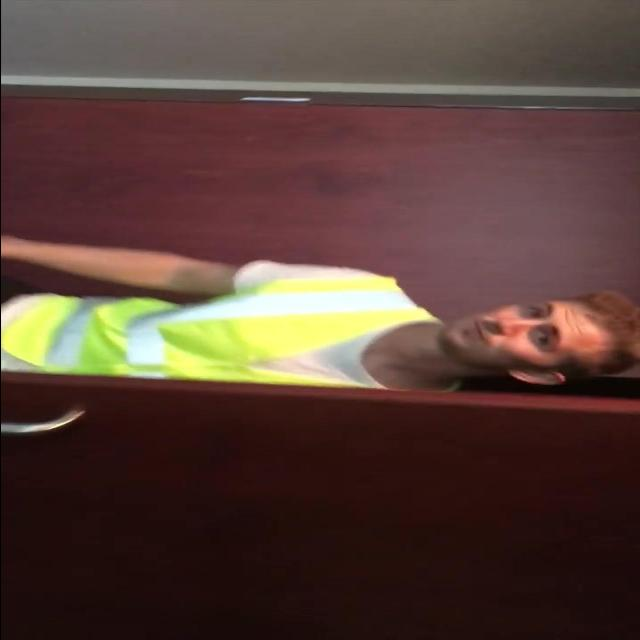jacket: (11, 262, 460, 408)
